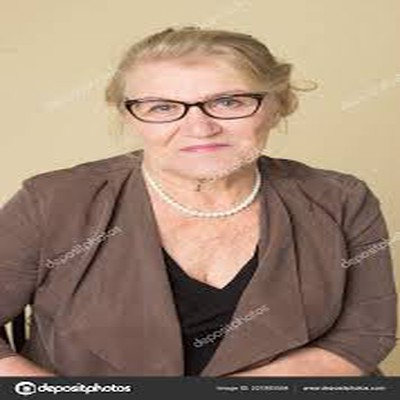eywear: (129, 76, 300, 147)
